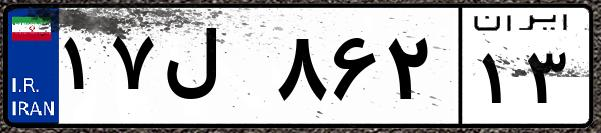1: (57, 26, 110, 100), (475, 38, 525, 113)
2: (385, 28, 445, 110)
3: (525, 38, 570, 115)
6: (330, 28, 385, 110)
7: (110, 28, 158, 98)
8: (270, 28, 330, 110)
ل: (158, 20, 270, 120)
